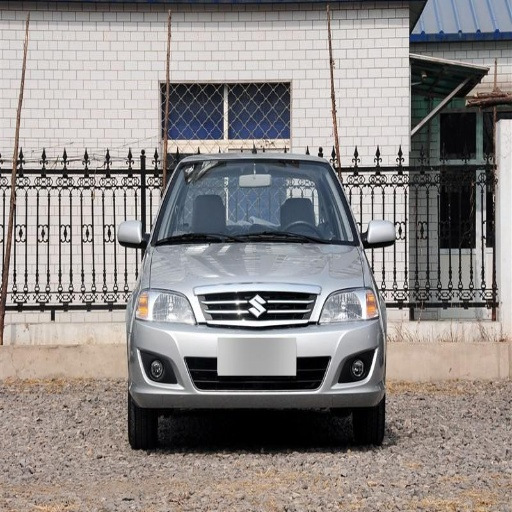front_bumper: (131, 287, 382, 406)
front_right_light: (135, 289, 196, 325)
hood: (149, 245, 366, 299)
